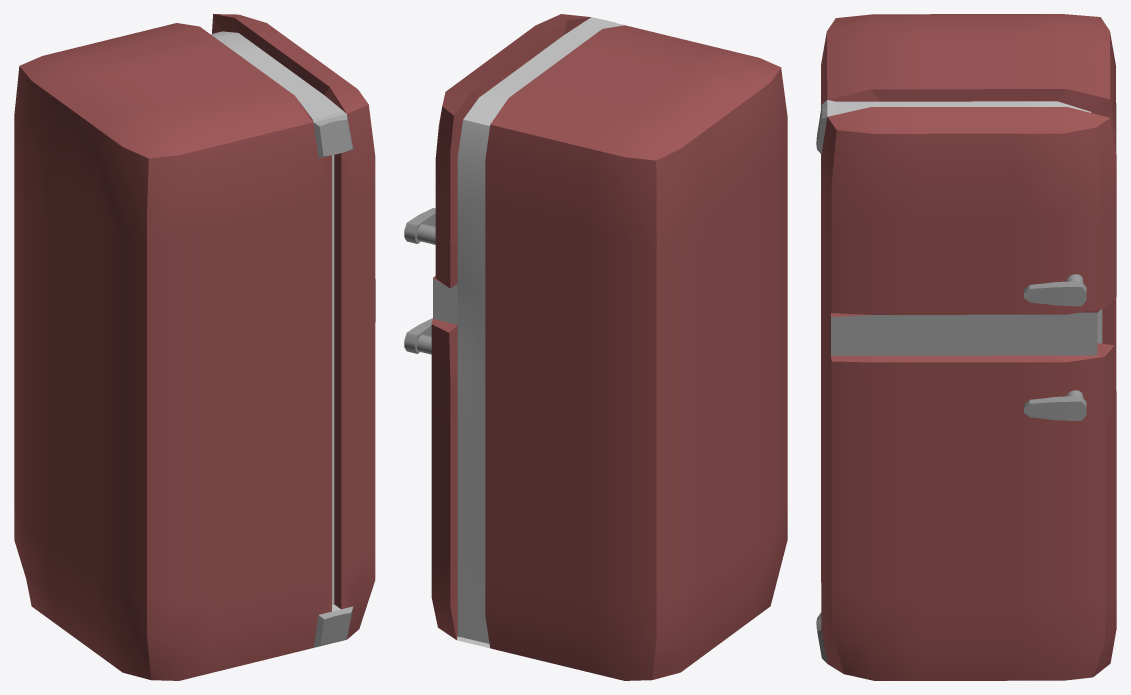
The model's file is Fridge.fbx.
3 views of the same model, side by side, from view 1: azimuth 30°, elevation 25°; view 2: azimuth 150°, elevation 25°; view 3: azimuth 270°, elevation 25° (orthographic). The views are drawn at different scales.
Visible parts, largest first — view 1: pCube4; view 2: pCube4; view 3: pCube4.
Boxes of the visible parts, bbox=[...] form: pCube4: bbox=[14, 14, 375, 680]; pCube4: bbox=[404, 14, 787, 680]; pCube4: bbox=[816, 14, 1116, 680].
Bounding box in the file's own units: 1.64 × 3.17 × 1.51.
